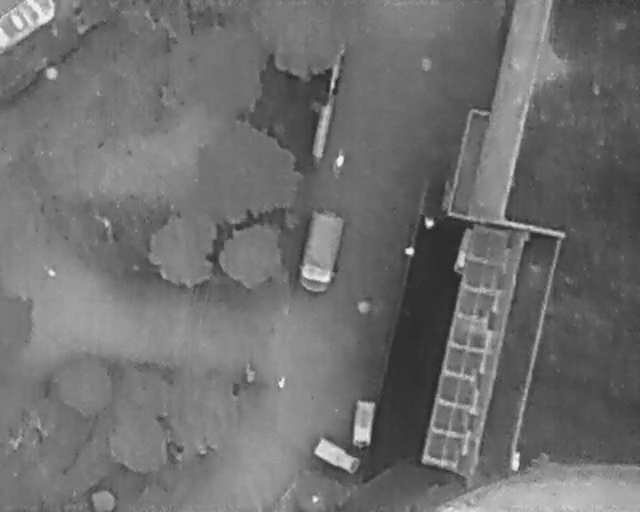Bicycle: (333, 153, 345, 180)
OtherVehicle: (295, 205, 348, 294), (312, 437, 364, 478), (351, 399, 376, 448)
Person: (425, 213, 436, 228), (404, 244, 415, 257)
